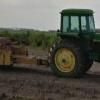Tractor: (35, 7, 100, 78)
